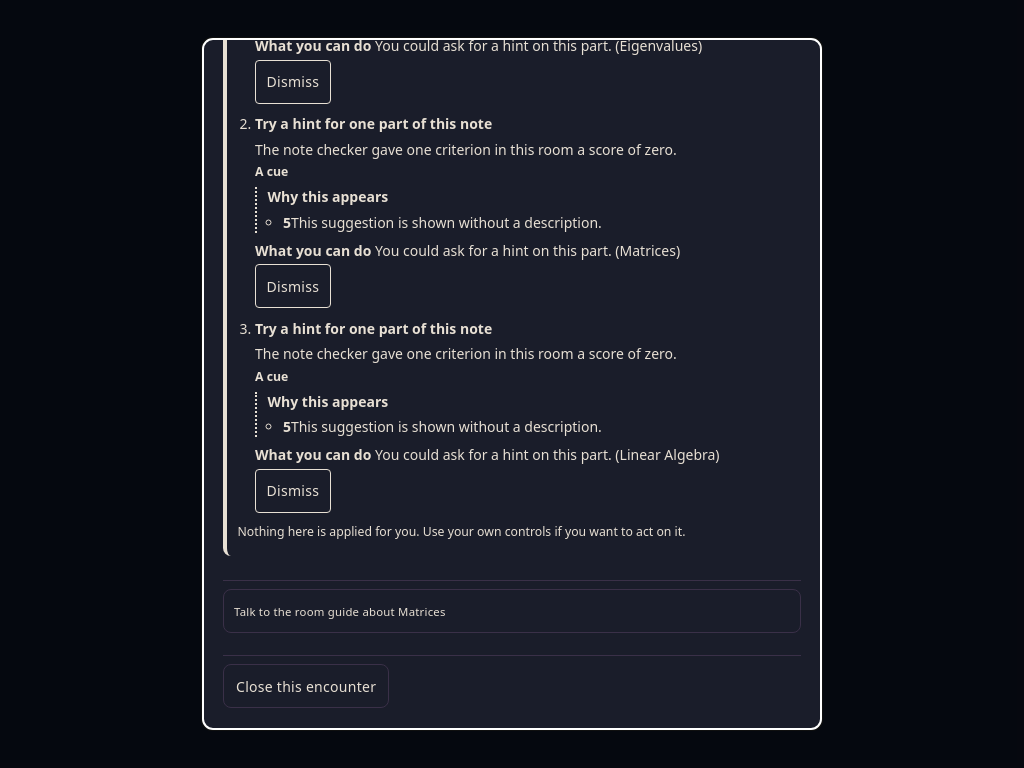
Test case: the flag-on Scribe lane › reaches the room guide copy the room panel used to reach, unchanged
The width and height of the screenshot is (1024, 768).
(page scrolled)
Click the button "Talk to the room guide about Matrices" at point(340, 611), box [223,589,801,633]
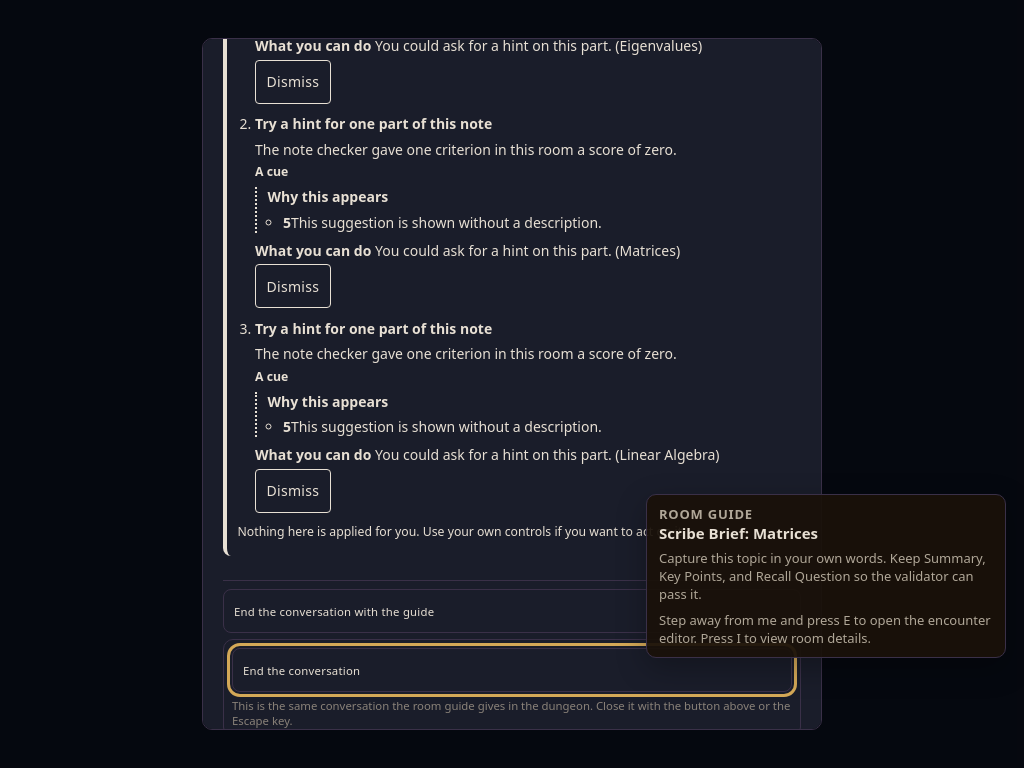
Expected: the text "Capture this topic in your own words. Keep Summary, Key Points, and Recall Question so the validator can pass it." is shown, [659,549,986,603]
